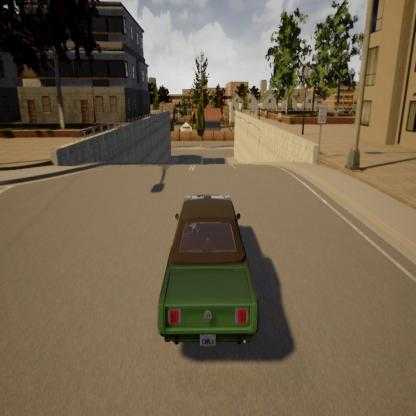Cars: (152, 184, 265, 364)
